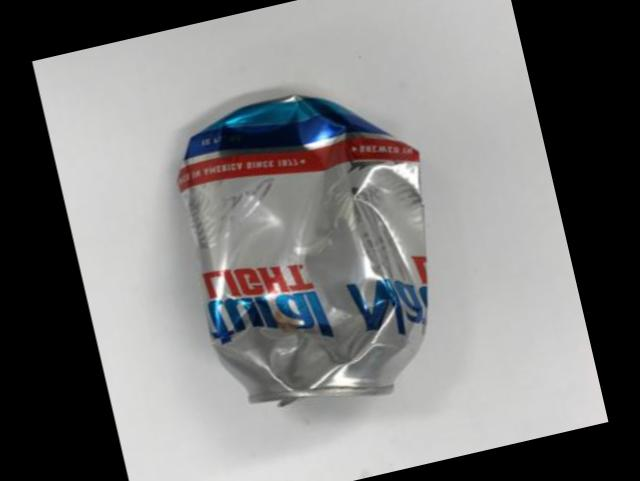metal: (180, 96, 429, 402)
